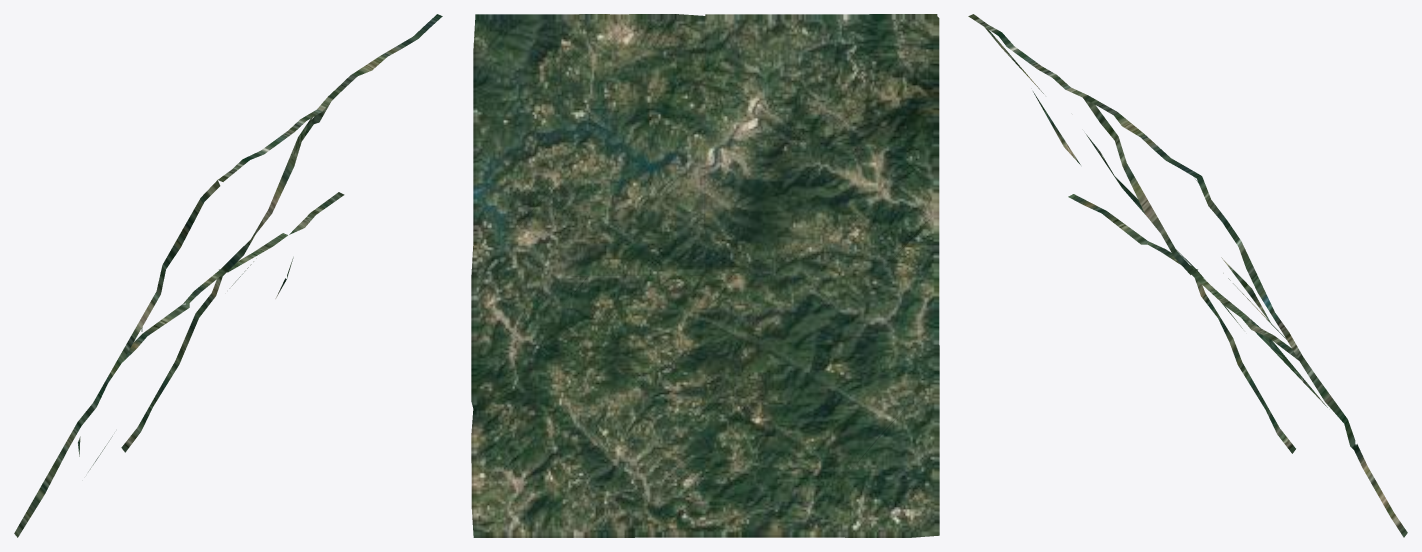
3 views of the same model, side by side, from view 1: azimuth 30°, elevation 25°; view 2: azimuth 150°, elevation 25°; view 3: azimuth 270°, elevation 25° (orthographic). The views are drawn at different scales.
Bounding box in the file's own units: 39397 × 35324 × 34024.
1 material, 1 textured.
